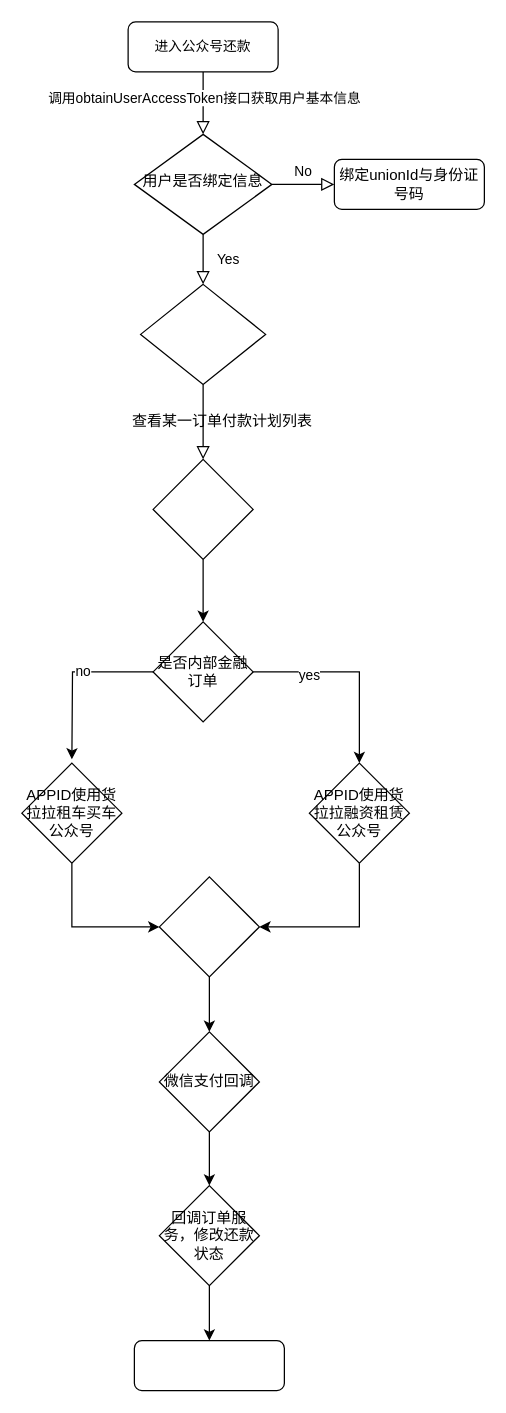
This 506x1413 diagram has some shape labels left out. Here are the shapes that lost their labels. From the top down, the centre of each, then its label:
At (x=202, y=333): "获取订单列表".
At (x=202, y=508): "获取付款配置信息".
At (x=208, y=926): "唤起微信支付".
At (x=208, y=1365): "END".
